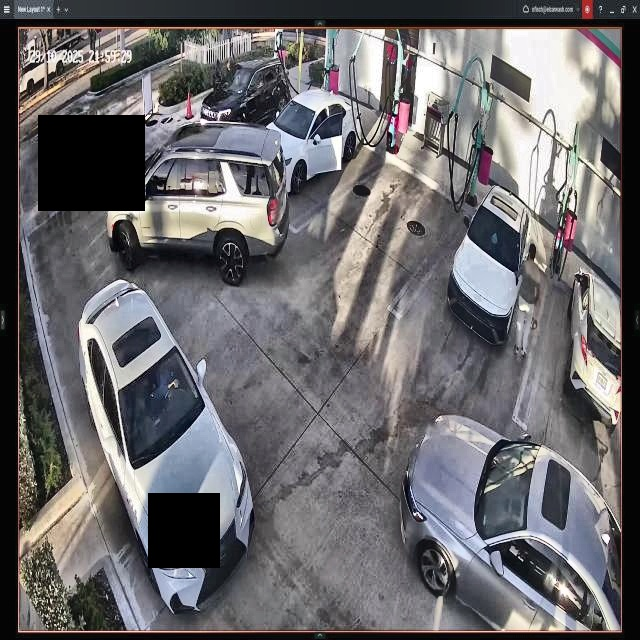Car: (78, 281, 254, 619), (402, 412, 622, 634), (108, 123, 288, 282), (450, 185, 531, 345), (269, 88, 363, 192)
